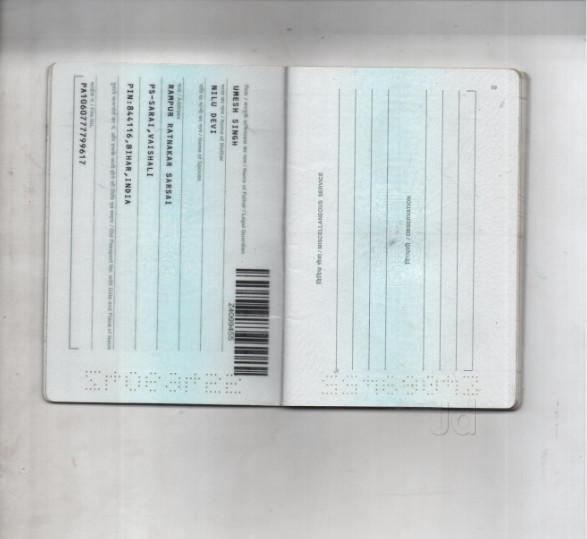File_no: (74, 79, 89, 181)
address: (123, 79, 178, 219)
father_name: (229, 79, 245, 153)
mother_name: (206, 78, 221, 145)
passport_no: (226, 298, 237, 343)
